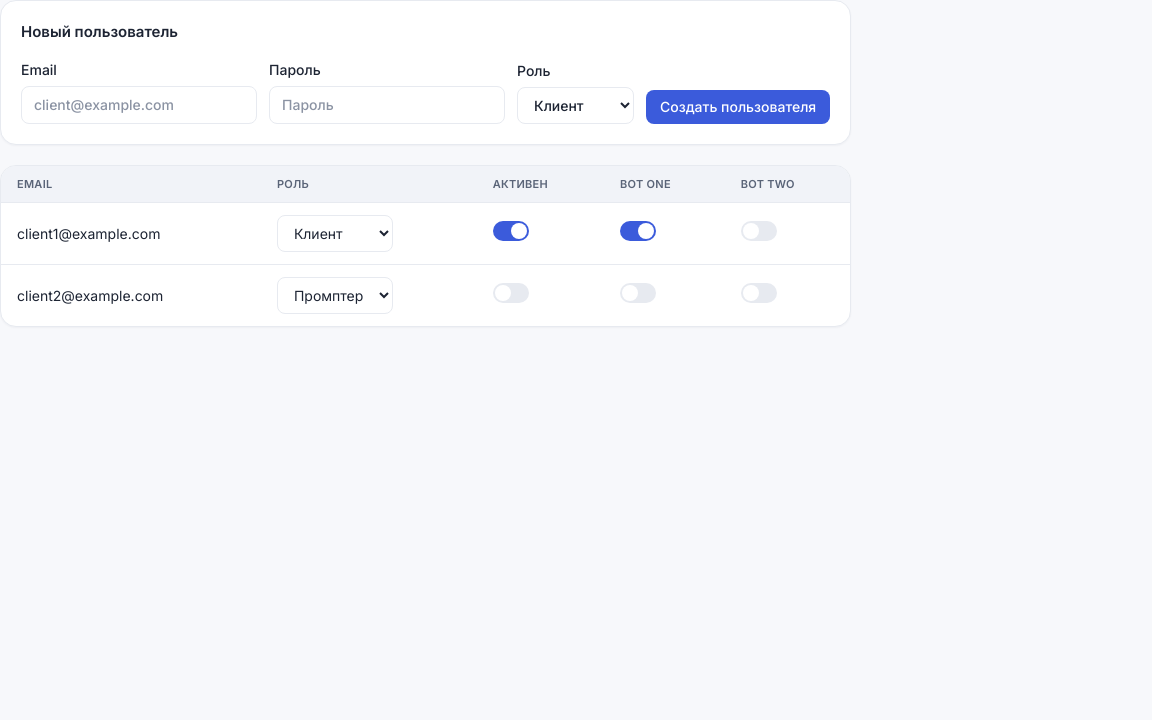
shows an error when changing a role fails
Select "Админ" in the dropdown named "Роль: client1@example.com" at [335, 234], box [277,215,393,252]
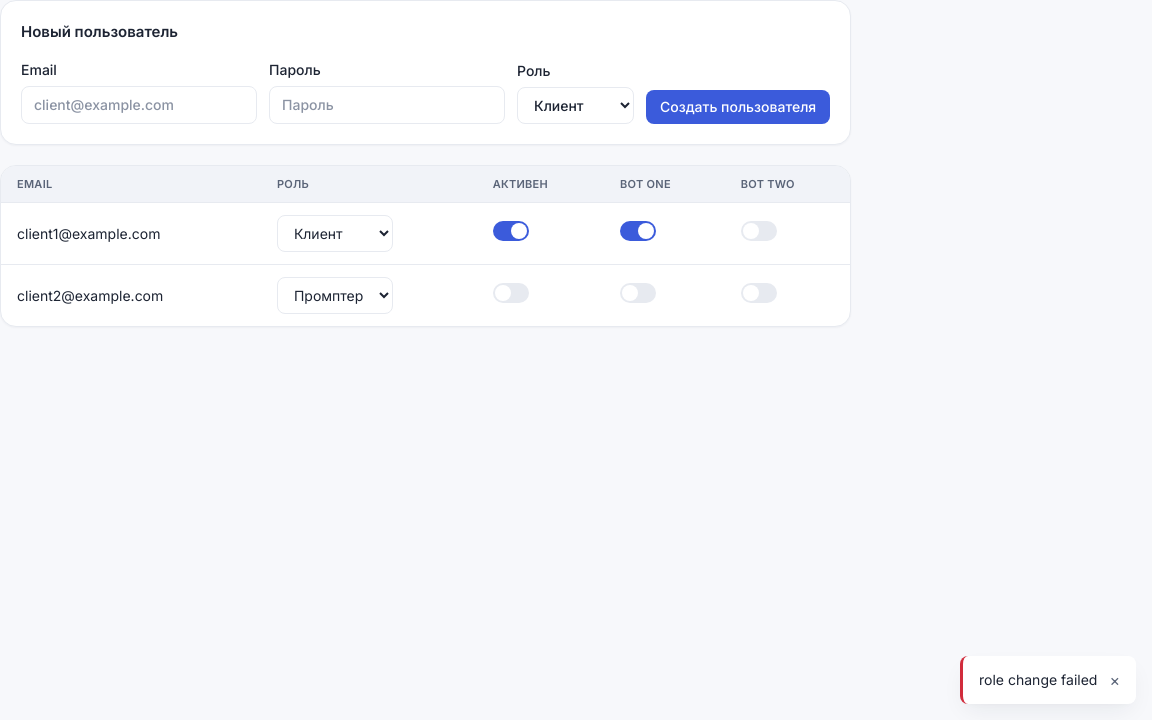
Result: the message shows "role change failed" at [979,671,1097,688]
